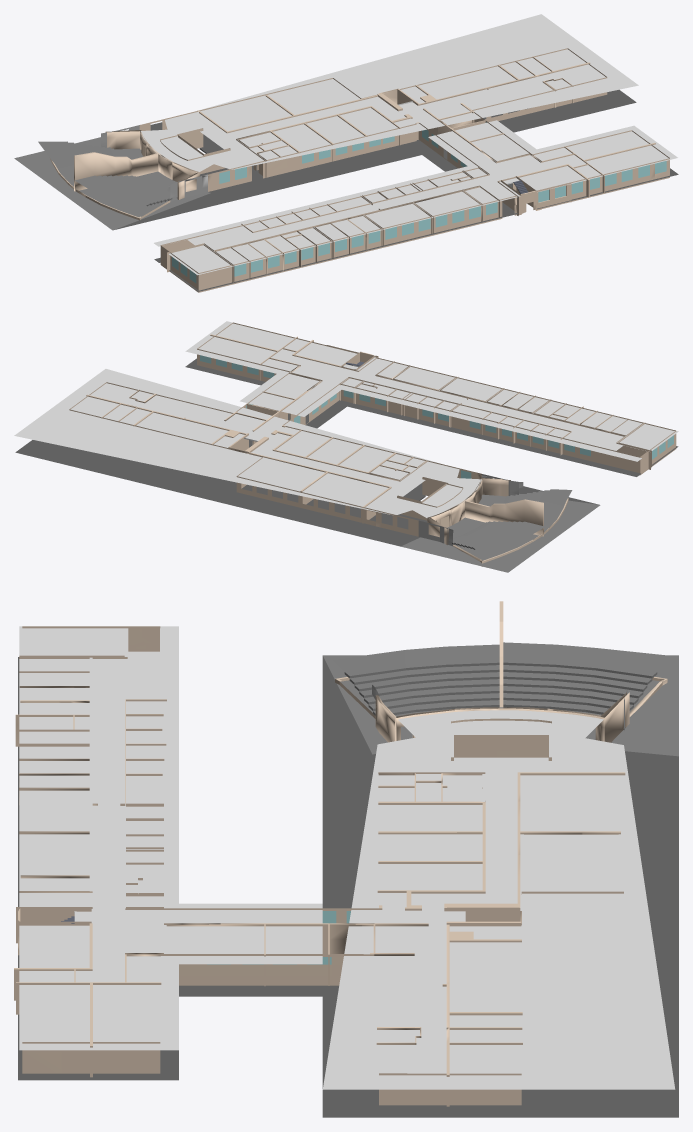
Rendered from ANS Main LVL1.fbx.
The picture shows the model from 3 angles, top to bottom: view 1: azimuth 30°, elevation 25°; view 2: azimuth 150°, elevation 25°; view 3: azimuth 270°, elevation 25°; orthographic projection. The views are drawn at different scales.
Visible parts, largest first — view 1: Ceiling1.001, Ceiling1, WallsOutside0.001, WallsInside0.001, Floor1.001, Ceiling1.002, StairsSP, StairsSP.001, Floor1; view 2: Ceiling1.001, Ceiling1, Floor1.001, WallsOutside0.001, WallsInside0.001, Ceiling1.002, Floor1, StairsSP.001, StairsSP, Floor1.002; view 3: Ceiling1.001, Ceiling1, Floor1.001, WallsInside0.001, WallsOutside0.001, StairsSP.001, StairsSP, Ceiling1.002, Floor1, Floor1.002.
Boxes of the visible parts, left/top/right/bottom form: Ceiling1.001: left=140, top=14, right=638, bottom=171; Ceiling1: left=154, top=125, right=677, bottom=275; WallsOutside0.001: left=50, top=48, right=669, bottom=292; WallsInside0.001: left=74, top=56, right=655, bottom=282; Floor1.001: left=14, top=89, right=636, bottom=230; Ceiling1.002: left=428, top=120, right=536, bottom=165; StairsSP: left=74, top=175, right=177, bottom=210; StairsSP.001: left=38, top=141, right=116, bottom=180; Floor1: left=154, top=168, right=678, bottom=291; Ceiling1.001: left=14, top=369, right=481, bottom=518; Ceiling1: left=185, top=321, right=678, bottom=461; Floor1.001: left=15, top=440, right=600, bottom=572; WallsOutside0.001: left=69, top=322, right=676, bottom=566; WallsInside0.001: left=86, top=334, right=651, bottom=544; Ceiling1.002: left=240, top=374, right=341, bottom=416; Floor1: left=185, top=358, right=678, bottom=476; StairsSP.001: left=442, top=521, right=545, bottom=556; StairsSP: left=503, top=489, right=572, bottom=525; Floor1.002: left=288, top=403, right=346, bottom=428; Ceiling1.001: left=322, top=710, right=675, bottom=1089; Ceiling1: left=19, top=626, right=178, bottom=1050; Floor1.001: left=322, top=655, right=678, bottom=1117; WallsInside0.001: left=14, top=601, right=629, bottom=1106; WallsOutside0.001: left=22, top=626, right=667, bottom=1105; StairsSP.001: left=502, top=642, right=678, bottom=729; StairsSP: left=332, top=644, right=501, bottom=716; Ceiling1.002: left=179, top=903, right=322, bottom=964; Floor1: left=18, top=657, right=178, bottom=1080; Floor1.002: left=179, top=985, right=322, bottom=996.
Size of the model in its own units: 9423 by 694 by 5706.
